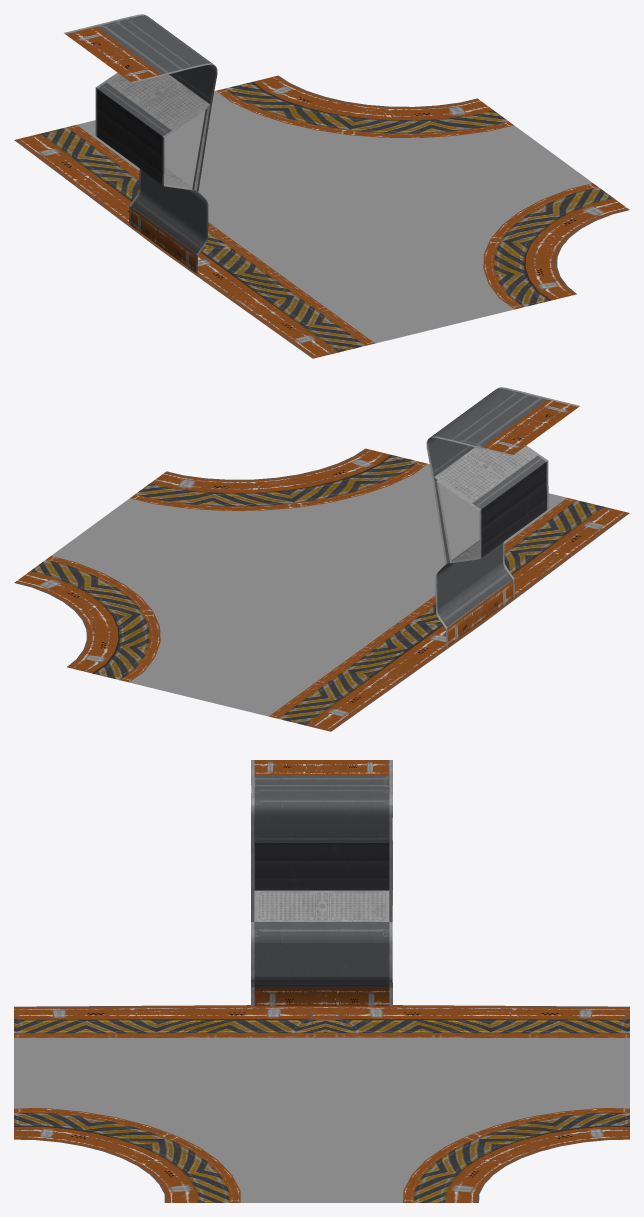
File: floor_t.FBX
3 views of the same model, one above another, from view 1: azimuth 30°, elevation 25°; view 2: azimuth 150°, elevation 25°; view 3: azimuth 270°, elevation 25° (orthographic). The views are drawn at different scales.
Visible parts, largest first — view 1: Plane006; view 2: Plane006; view 3: Plane006.
Part boxes in pixels (x1,y1,x2,y2): Plane006: (14, 14, 629, 358); Plane006: (14, 387, 629, 731); Plane006: (14, 760, 629, 1202).
Bounding box in the file's own units: 689 × 300 × 782.
Materials: 2 (1 with a texture image).
